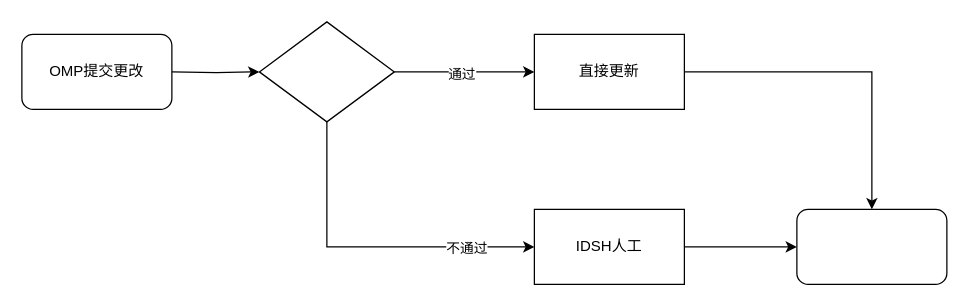
Image size: 969x306. Some labels were removed from this diagram. Here are the shapes that lost their labels. From the top down, the centre of each, then its label:
[326,71]: Iris4校验更改内容
[871,246]: 发送完成回执到OMP
